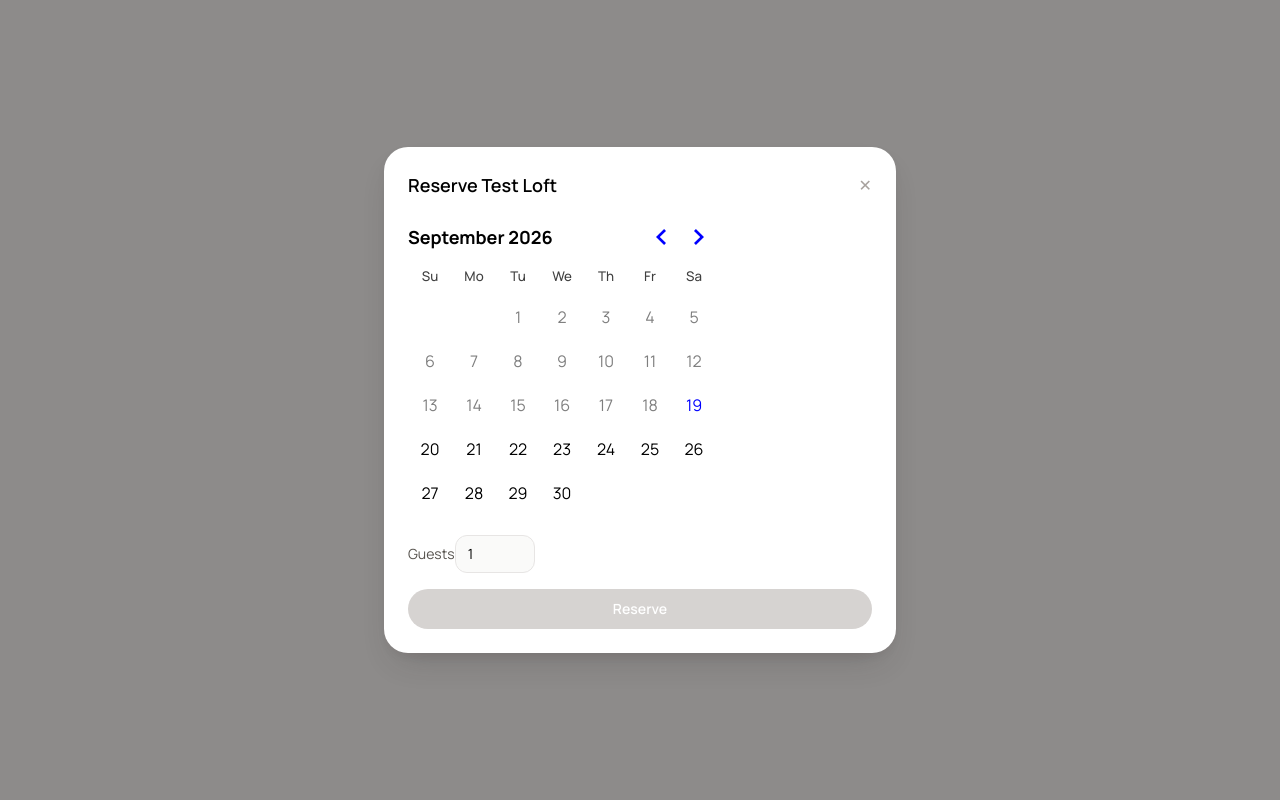
Scenario: shows a price breakdown once a date range is picked, and confirms a booking
Click the button named "next month".
click(698, 237)  # box [680,219,716,255]
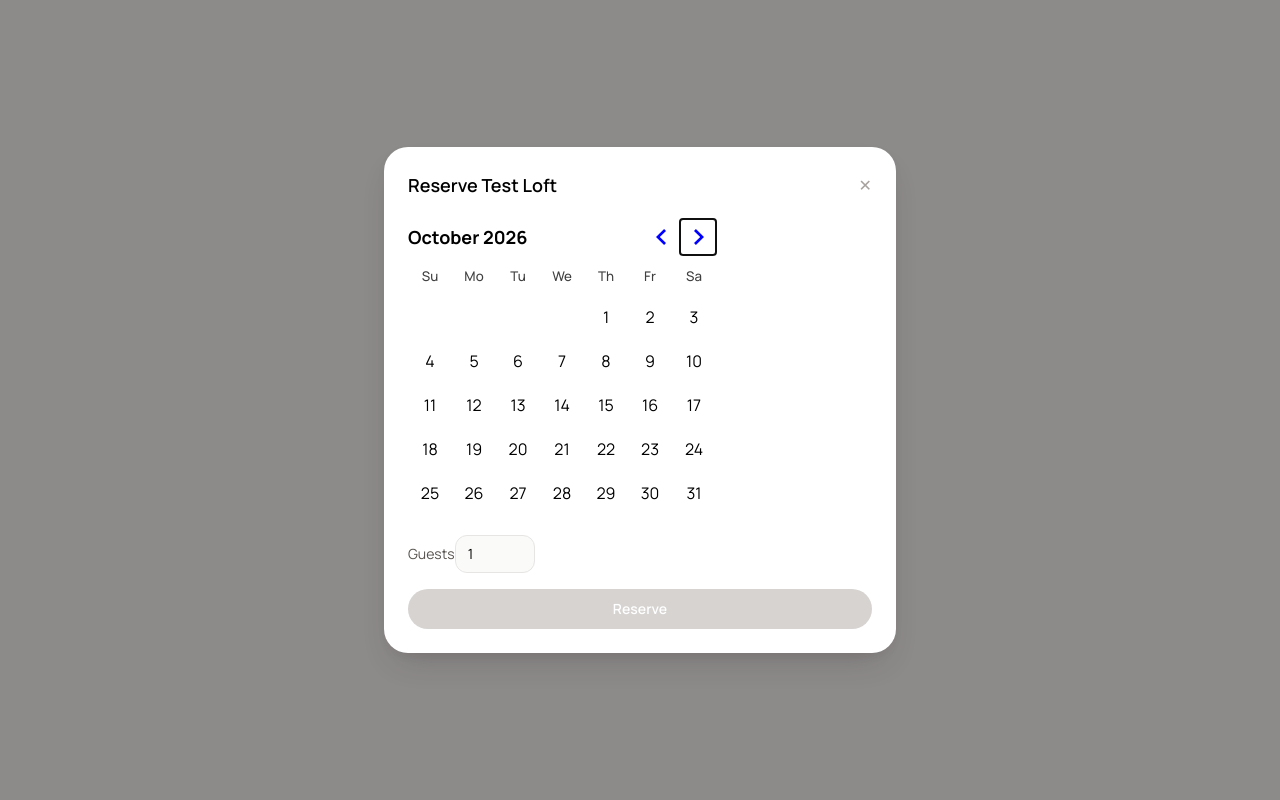
Click the button named "October 10th, 2026".
click(694, 361)  # box [673,340,715,382]
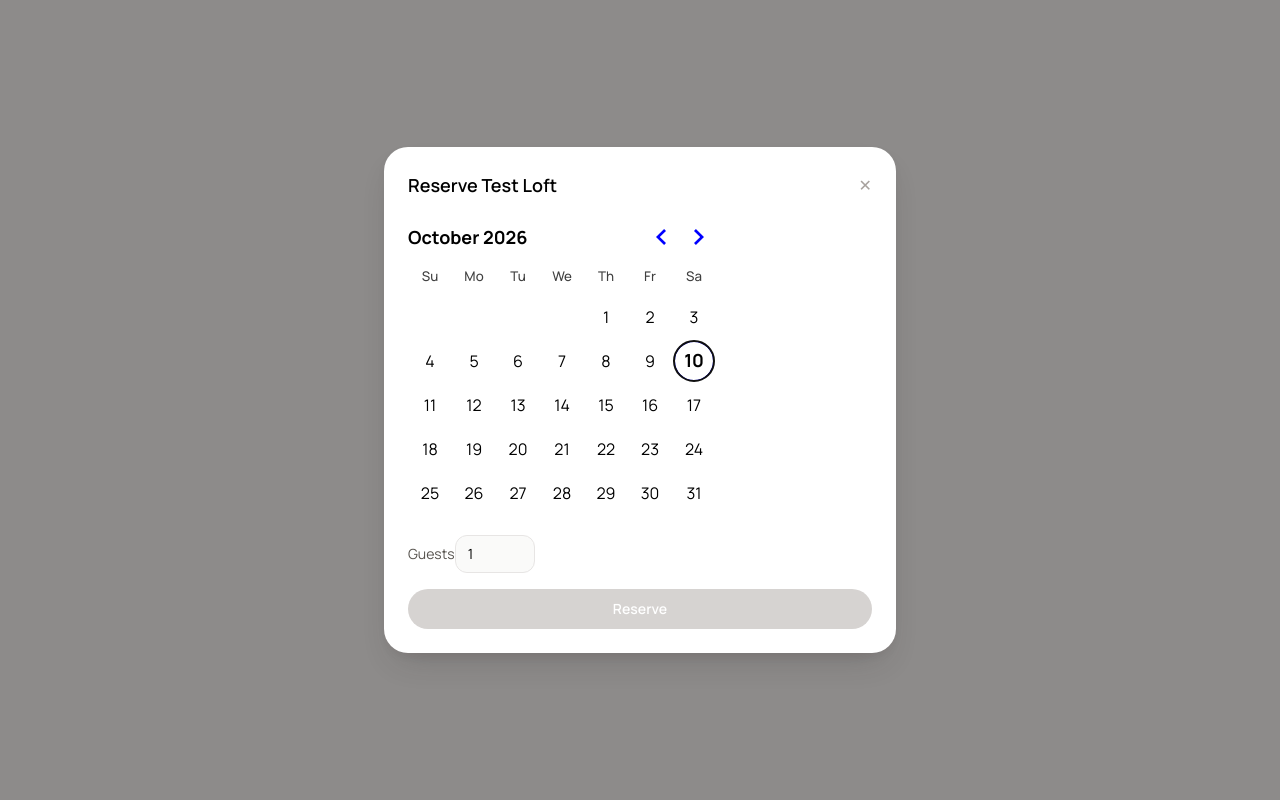
Click the button named "October 13th, 2026".
click(518, 405)  # box [497,384,539,426]
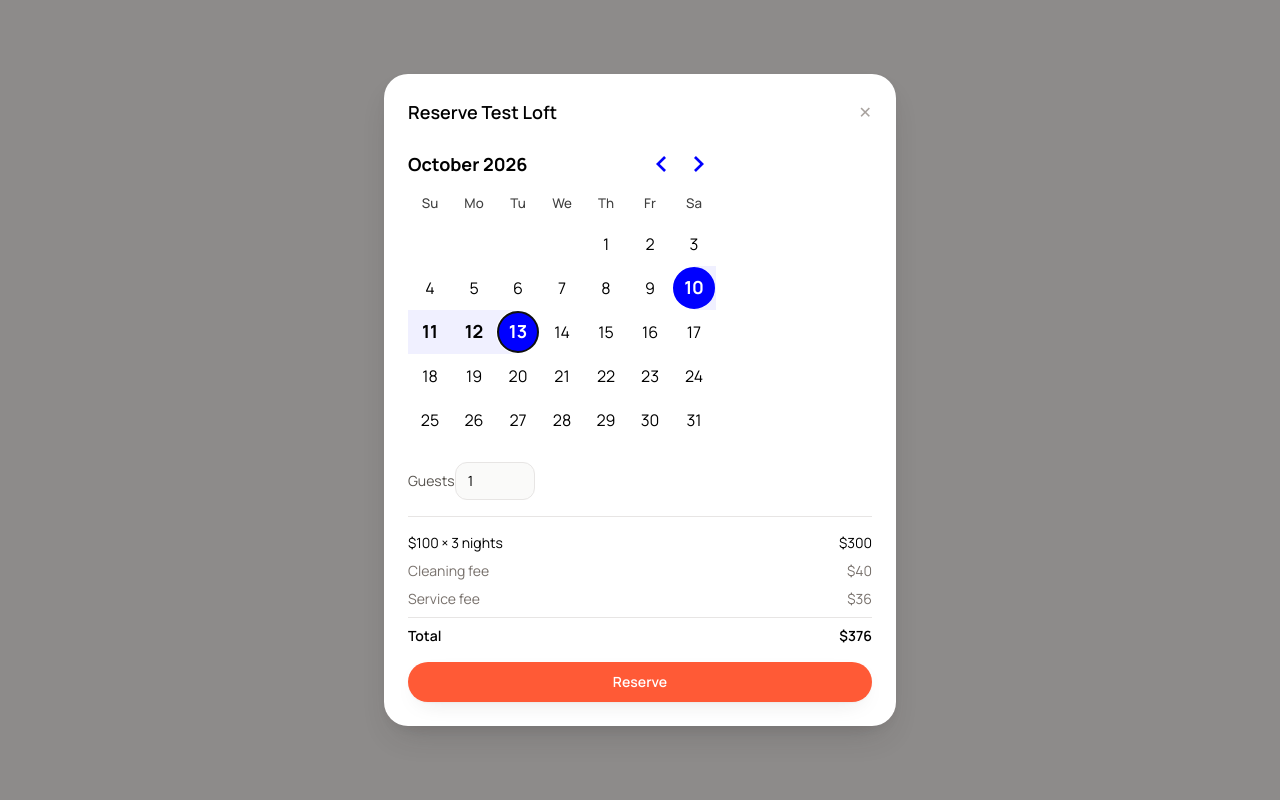
Expected: the text "$376" is shown, [839,626,872,646]
Click the button "Reserve".
click(640, 682)  # box [408,662,872,702]
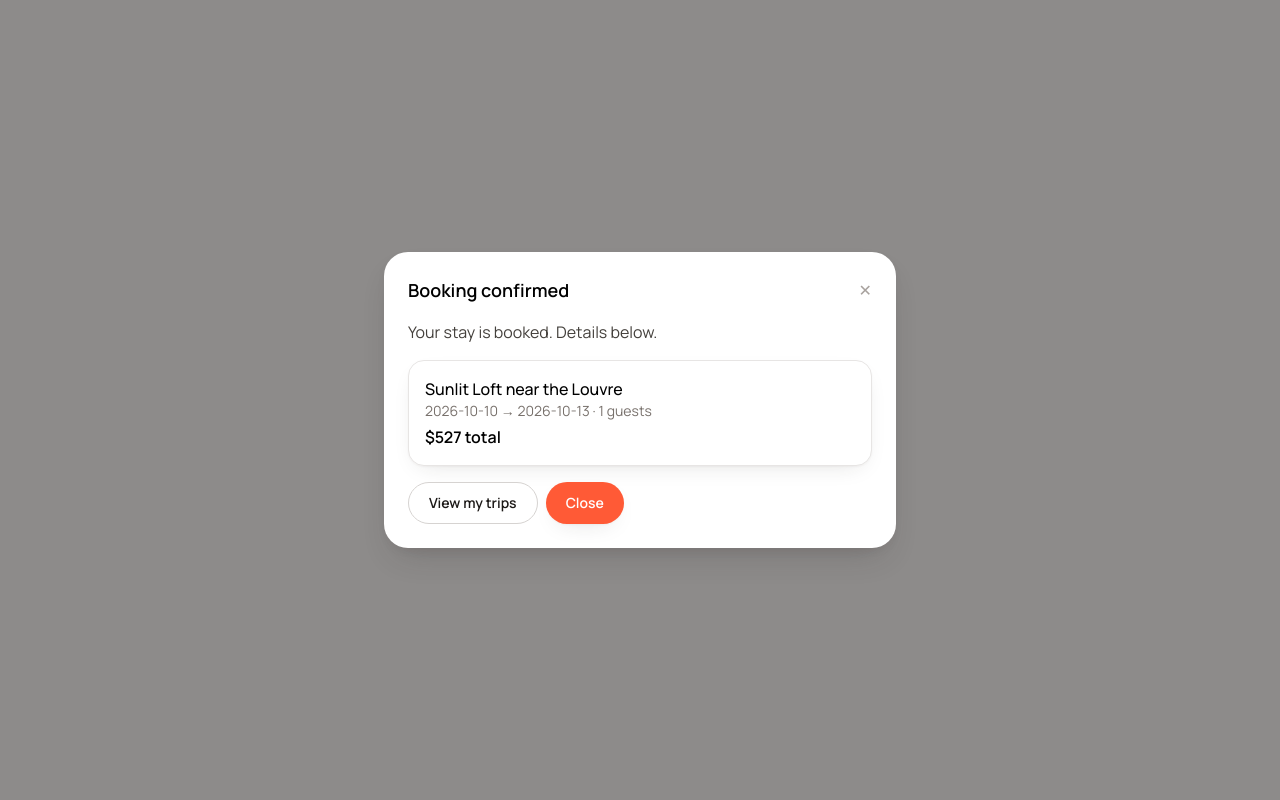
Expected: the heading "Booking confirmed" is shown, [408,276,569,304]
Expected: the text "2026-10-10 → 2026-10-13 · 1 guests" is shown, [425,401,652,420]
